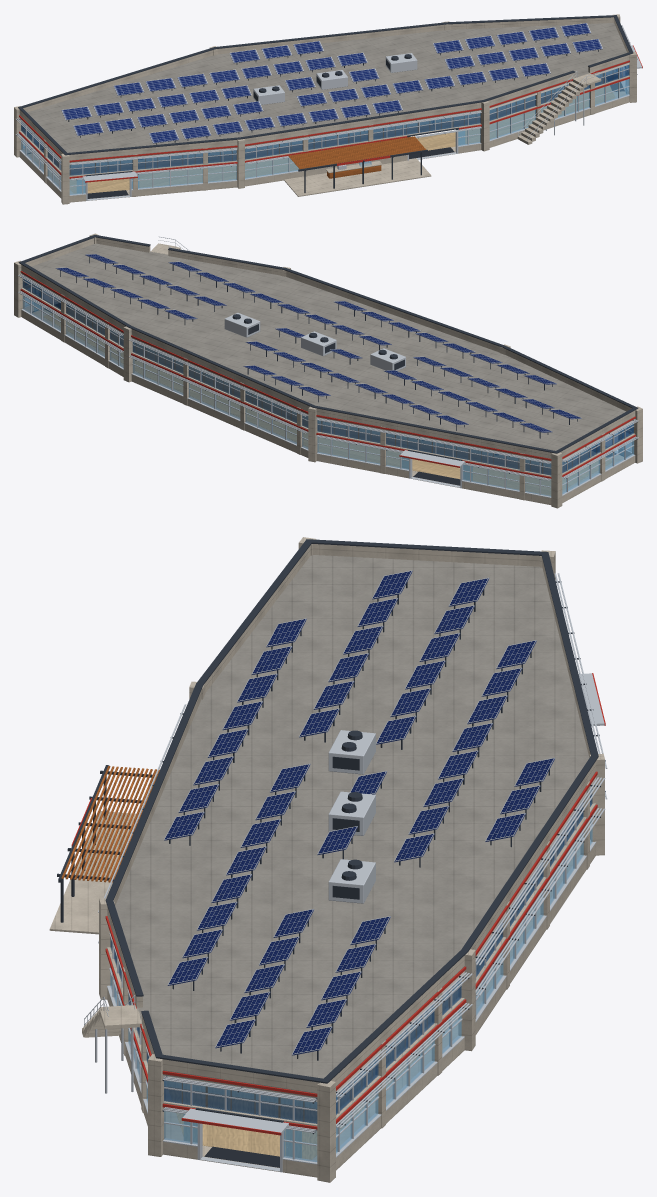
The model's file is landmark_b40_partnerplex.glb.
3 renders of one model, top to bottom at view 1: azimuth 30°, elevation 25°; view 2: azimuth 150°, elevation 25°; view 3: azimuth 270°, elevation 25°, orthographic. The views are drawn at different scales.
Visible parts, largest first — view 1: B40_RoofDeck, B40_Concrete, B40_SolarPanels, B40_AluminumMullions, B40_OfficeFloorOak, B40_CurtainGlassUpper, B40_DarkSteel, B40_CurtainGlassLower, B40_AccentTrim, B40_CharliesCedar, B40_InteriorDrywall, B40_WelcomeMats (+1 smaller); view 2: B40_RoofDeck, B40_Concrete, B40_AluminumMullions, B40_OfficeFloorOak, B40_SolarPanels, B40_CurtainGlassLower, B40_DarkSteel, B40_CurtainGlassUpper, B40_AccentTrim, B40_InteriorDrywall, B40_OfficeFloorConc, B40_WelcomeMats; view 3: B40_RoofDeck, B40_SolarPanels, B40_Concrete, B40_AluminumMullions, B40_DarkSteel, B40_CurtainGlassLower, B40_OfficeFloorOak, B40_CurtainGlassUpper, B40_AccentTrim, B40_CharliesCedar, B40_OfficeFloorConc, B40_InteriorDrywall.
Part boxes in pixels (x1,y1,x2,y2): B40_RoofDeck: (20,23,629,162); B40_Concrete: (14,14,636,204); B40_SolarPanels: (61,23,602,143); B40_AluminumMullions: (15,25,642,200); B40_OfficeFloorOak: (41,73,615,193); B40_CurtainGlassUpper: (21,65,629,175); B40_DarkSteel: (16,15,637,192); B40_CurtainGlassLower: (21,79,629,194); B40_AccentTrim: (19,45,642,182); B40_CharliesCedar: (288,136,426,178); B40_InteriorDrywall: (19,63,629,164); B40_WelcomeMats: (87,74,624,198); B40_RoofDeck: (21,243,634,461); B40_Concrete: (14,233,642,508); B40_AluminumMullions: (17,236,638,497); B40_OfficeFloorOak: (43,307,611,495); B40_SolarPanels: (55,254,581,432); B40_CurtainGlassLower: (23,294,633,496); B40_DarkSteel: (18,235,638,479); B40_CurtainGlassUpper: (22,277,633,475); B40_AccentTrim: (20,271,635,478); B40_InteriorDrywall: (21,273,635,463); B40_OfficeFloorConc: (22,309,623,504); B40_WelcomeMats: (44,303,616,485); B40_RoofDeck: (108,555,595,1097); B40_SolarPanels: (164,570,554,1055); B40_Concrete: (49,537,604,1182); B40_AluminumMullions: (84,573,607,1172); B40_DarkSteel: (57,539,605,1134); B40_CurtainGlassLower: (110,817,592,1161); B40_OfficeFloorOak: (166,839,561,1159); B40_CurtainGlassUpper: (110,789,592,1123); B40_AccentTrim: (71,673,605,1135); B40_CharliesCedar: (61,766,159,882); B40_OfficeFloorConc: (116,813,591,1171); B40_InteriorDrywall: (107,777,595,1101).
Bounding box in the file's own units: 89.73 × 8.12 × 38.32.
18 materials, 7 textured.
